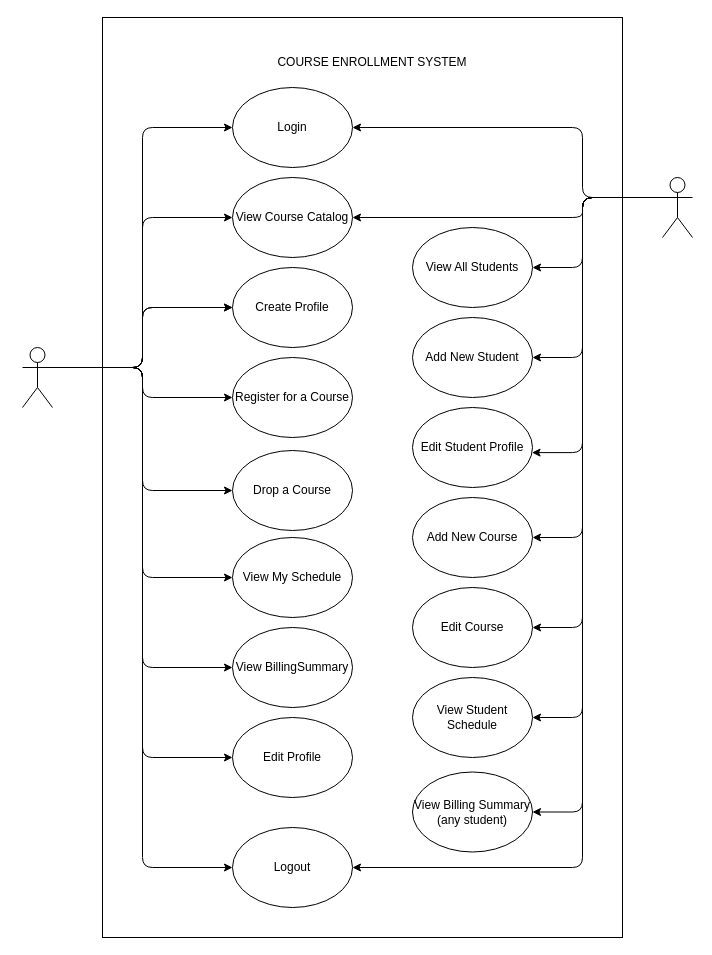
The diagram is 712 pixels wide and 955 high, and some of its shapes have lost their labels. The shapes that lost their labels are listed below. From the top down, each one's centre as x and y in pixels, then its label:
[677,207]: Admin
[37,377]: Student
